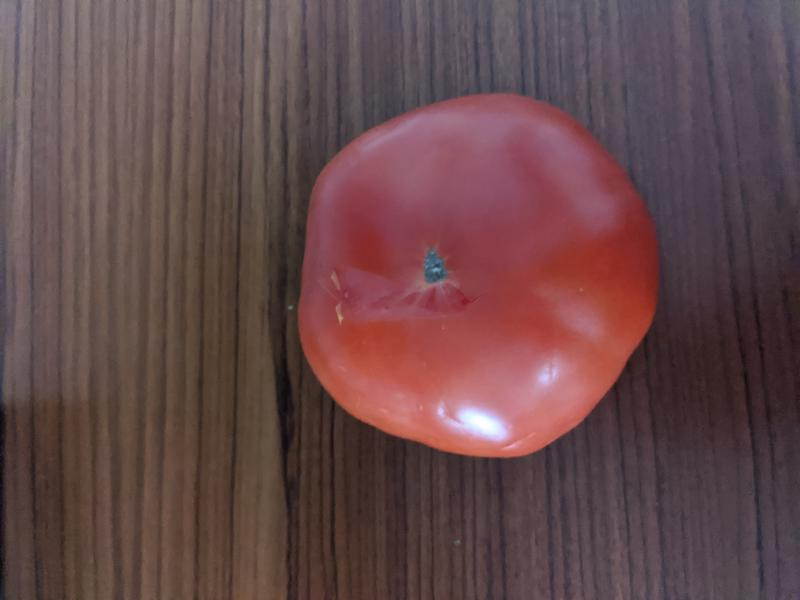tomato: (295, 93, 660, 458)
